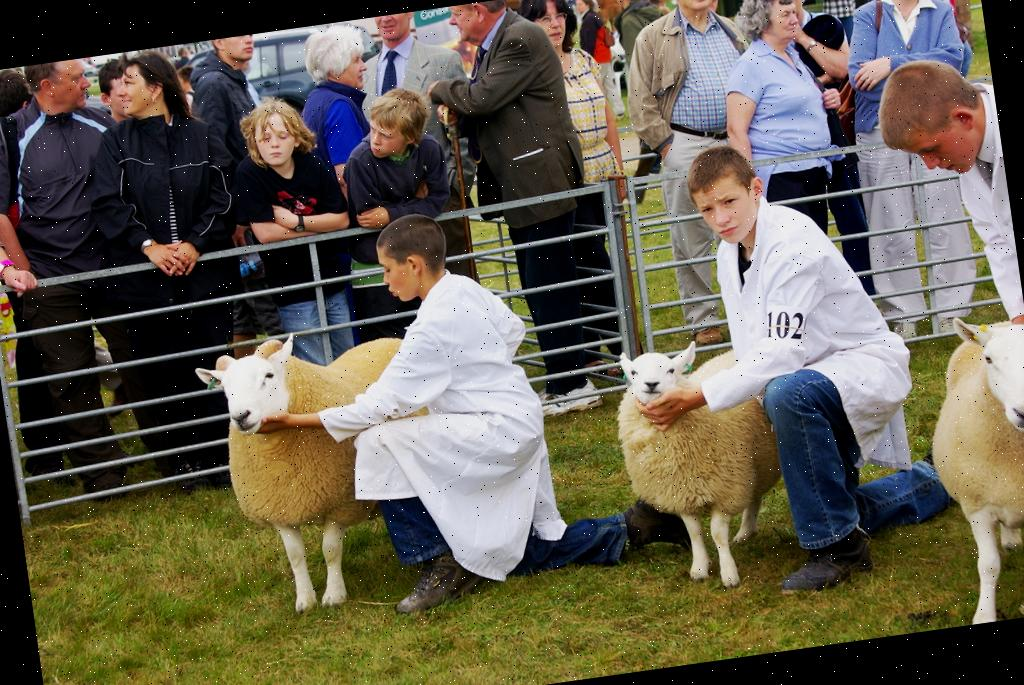Sheep: (192, 314, 456, 621), (604, 329, 797, 602), (913, 306, 1024, 626)
